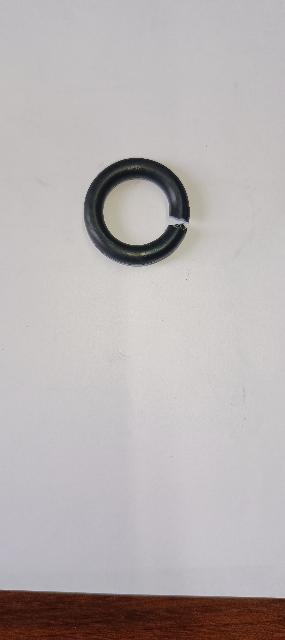crack: (166, 211, 191, 235)
scratch: (153, 233, 172, 251), (181, 203, 191, 210)
